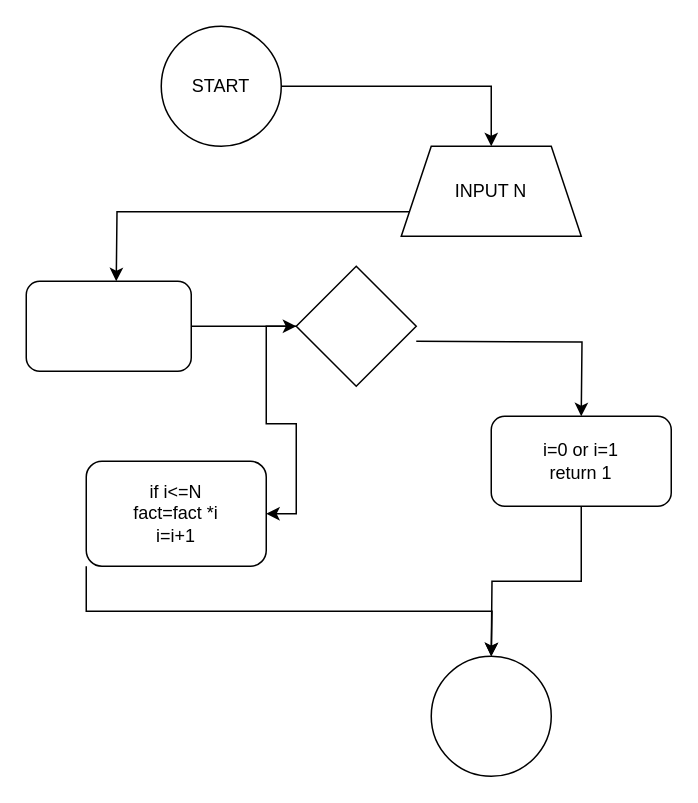
This 698x803 diagram has some shape labels left out. Here are the shapes that lost their labels. From the top down, the box of each, then its label:
(25, 280, 191, 371): Fact=1
(295, 265, 416, 386): i=1
